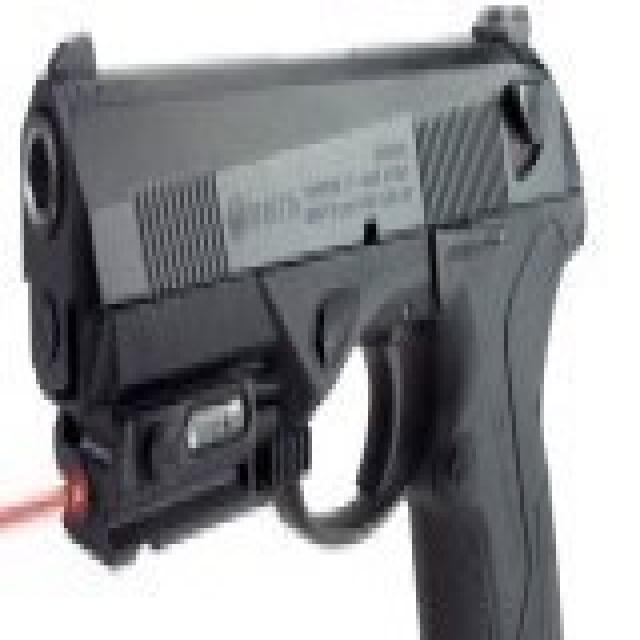Gun: (15, 10, 596, 632)
